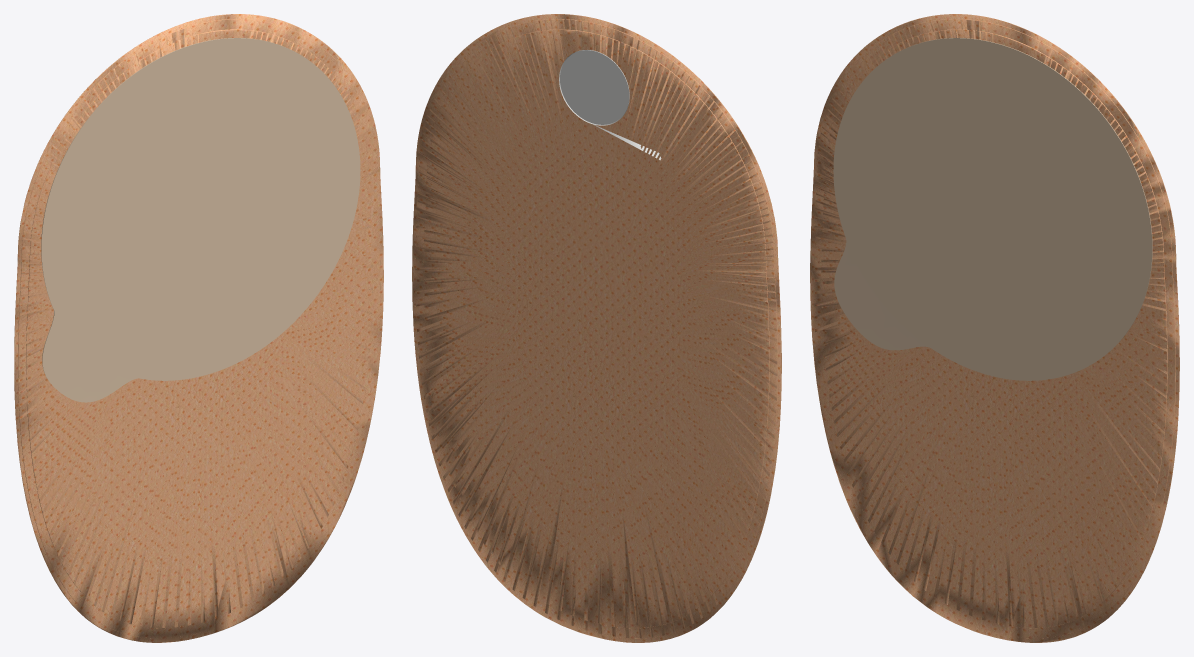
The model's file is stomie.glb.
3 views of the same model, side by side, from view 1: azimuth 30°, elevation 25°; view 2: azimuth 150°, elevation 25°; view 3: azimuth 330°, elevation 25° (orthographic).
Parts seen in each view (by area): view 1: model_1, model_5; view 2: model_1, model_3; view 3: model_1, model_5.
Boxes of the visible parts, box(x1,y1,x2,y2) form: model_1: box(14, 14, 383, 642); model_5: box(41, 38, 360, 402); model_1: box(412, 14, 781, 642); model_3: box(559, 50, 661, 160); model_1: box(810, 14, 1179, 642); model_5: box(833, 38, 1152, 380).
Bounding box in the file's own units: 8.09 × 12.95 × 0.1901.
Materials: 4 (2 with a texture image).
